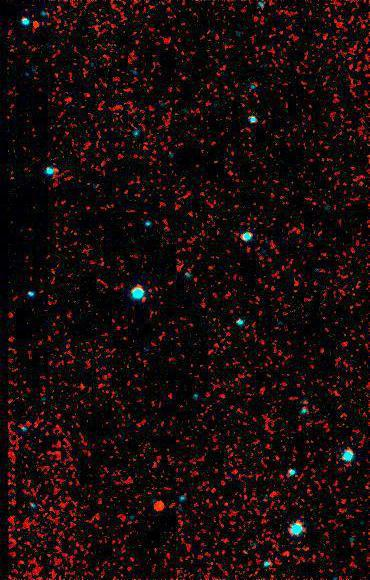star: (274, 534, 304, 564)
